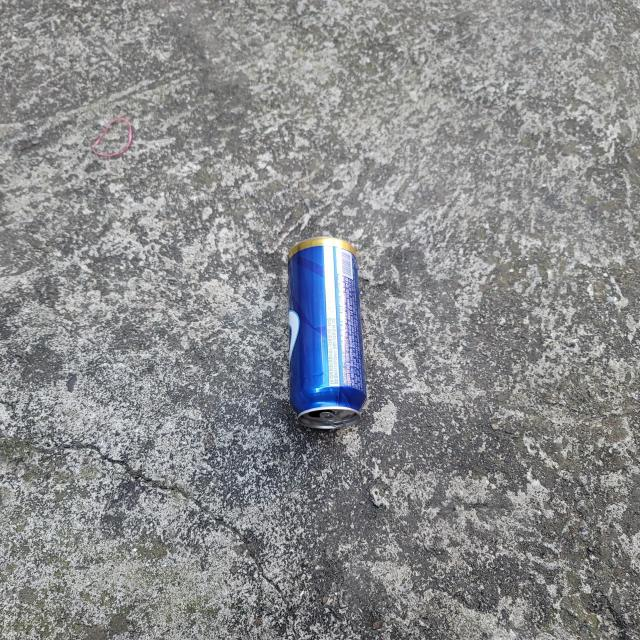can: (288, 237, 366, 430)
